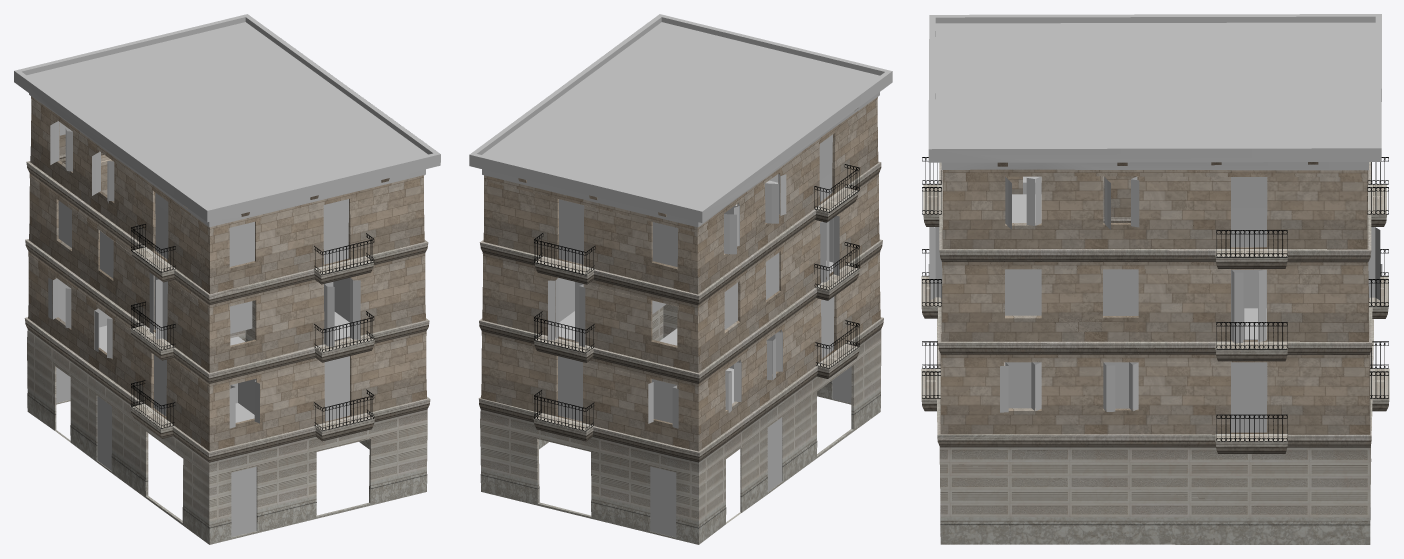
The model's file is residential_4_LOD1.FBX.
3 renders of one model, left to right at view 1: azimuth 30°, elevation 25°; view 2: azimuth 150°, elevation 25°; view 3: azimuth 270°, elevation 25°, orthographic. The views are drawn at different scales.
Parts seen in each view (by area): view 1: building_005, building4_roof01, building005, building4_transparent01, building4_interior01; view 2: building_005, building4_roof01, building005, building4_transparent01, building4_interior01; view 3: building_005, building4_roof01, building005, building4_transparent01, building4_interior01.
Boxes of the visible parts, x1,y1,x2,y2 form: building_005: (14, 14, 440, 544); building4_roof01: (27, 22, 427, 207); building005: (48, 121, 360, 537); building4_transparent01: (131, 224, 374, 431); building4_interior01: (58, 276, 349, 422); building_005: (469, 14, 892, 544); building4_roof01: (482, 22, 879, 208); building005: (548, 174, 851, 537); building4_transparent01: (534, 164, 859, 431); building4_interior01: (558, 174, 833, 423); building_005: (921, 14, 1389, 544); building4_roof01: (935, 22, 1375, 146); building005: (928, 176, 1382, 412); building4_transparent01: (922, 157, 1388, 441); building4_interior01: (1005, 176, 1266, 408).
Size of what is drawn, in the model's own units: 1128 by 1489 by 1577.
